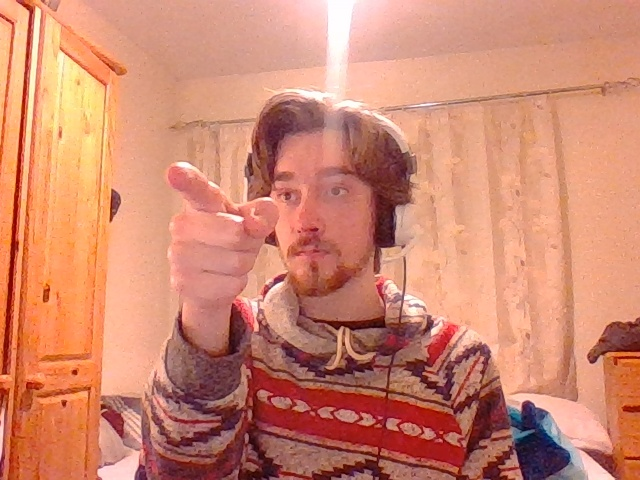you: (165, 161, 278, 329)
